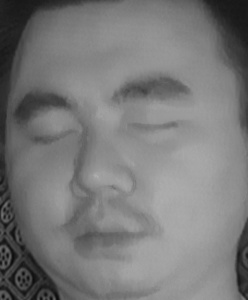blink: (125, 107, 180, 142), (29, 119, 80, 151)
mouth: (63, 207, 148, 265)
